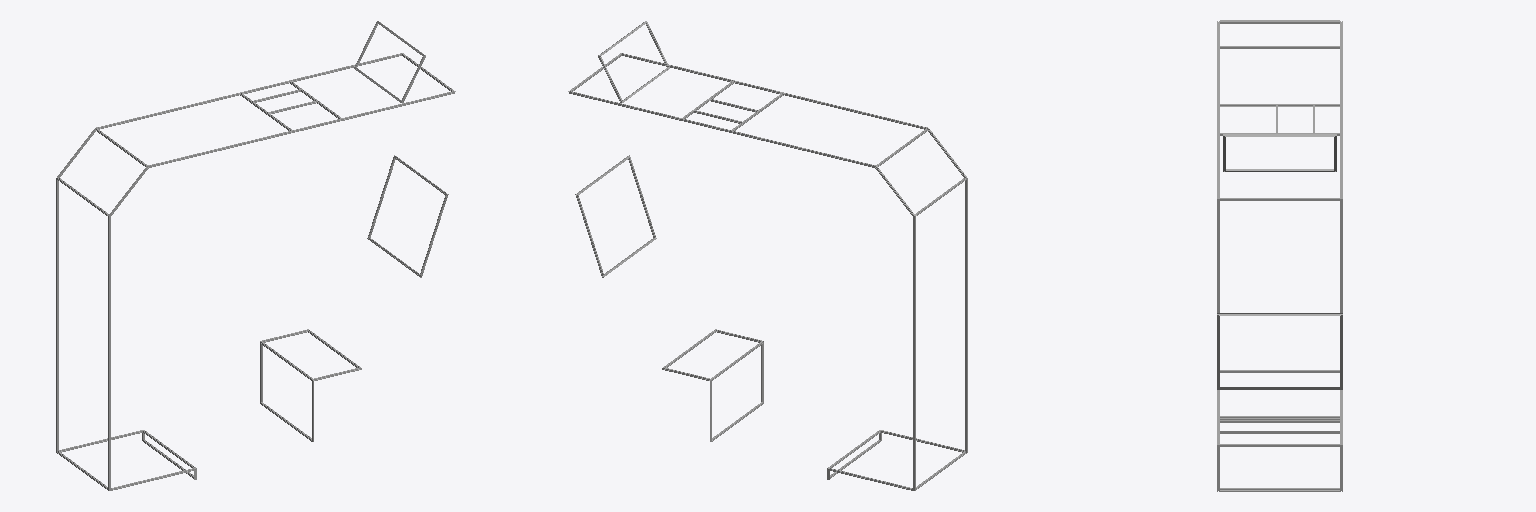
URDF robot description (InRePro):
<?xml version="1.0" ?>
<robot name="InRePro">
  <link name="baseLink">
    <contact>
      <lateral_friction value="1.0"/>
      <rolling_friction value="0.0"/>
      <contact_cfm value="0.0"/>
      <contact_erp value="0.8"/>
      <damping value=".0"/>
    </contact>
    <inertial>
      <origin rpy="0 0 0" xyz="0 0 0.0"/>
       <mass value="1"/>
       <inertia ixx="1" ixy="0" ixz="0" iyy="1" iyz="0" izz="2"/>
    </inertial>
    <visual>
      <origin rpy="0 0 0" xyz="0 0 0"/>
      <geometry>
		<mesh filename="mesh/zaun.stl"/>
      </geometry>
       <material name="grey_transparent">
        <color rgba="0.7 0.7 0.7 0.3"/>
      </material>
    </visual>
    <collision concave="yes">
      <origin rpy="0 0 0" xyz="0 0 0"/>
      <geometry>
	 	<mesh filename="mesh/zaun.stl"/>
      </geometry>
    </collision>
  </link>
</robot>

--- Render facts (derived) ---
The picture shows the robot from 3 angles, left to right: view 1: azimuth 30°, elevation 25°; view 2: azimuth 150°, elevation 25°; view 3: azimuth 270°, elevation 25°; orthographic projection.
Model InRePro with 1 links and 0 joints (none), rooted at baseLink, posed every joint at zero.
Links seen in each view (by area): view 1: baseLink; view 2: baseLink; view 3: baseLink.
Boxes of the visible links, x1,y1,x2,y2 form: baseLink: [56, 21, 455, 490]; baseLink: [568, 21, 967, 490]; baseLink: [1217, 20, 1342, 491].
Bounding box of the posed robot: 7709 × 2040 × 7783 m (x, y, z).
1 mesh visuals loaded from 1 distinct referenced files (1 binary STL).
